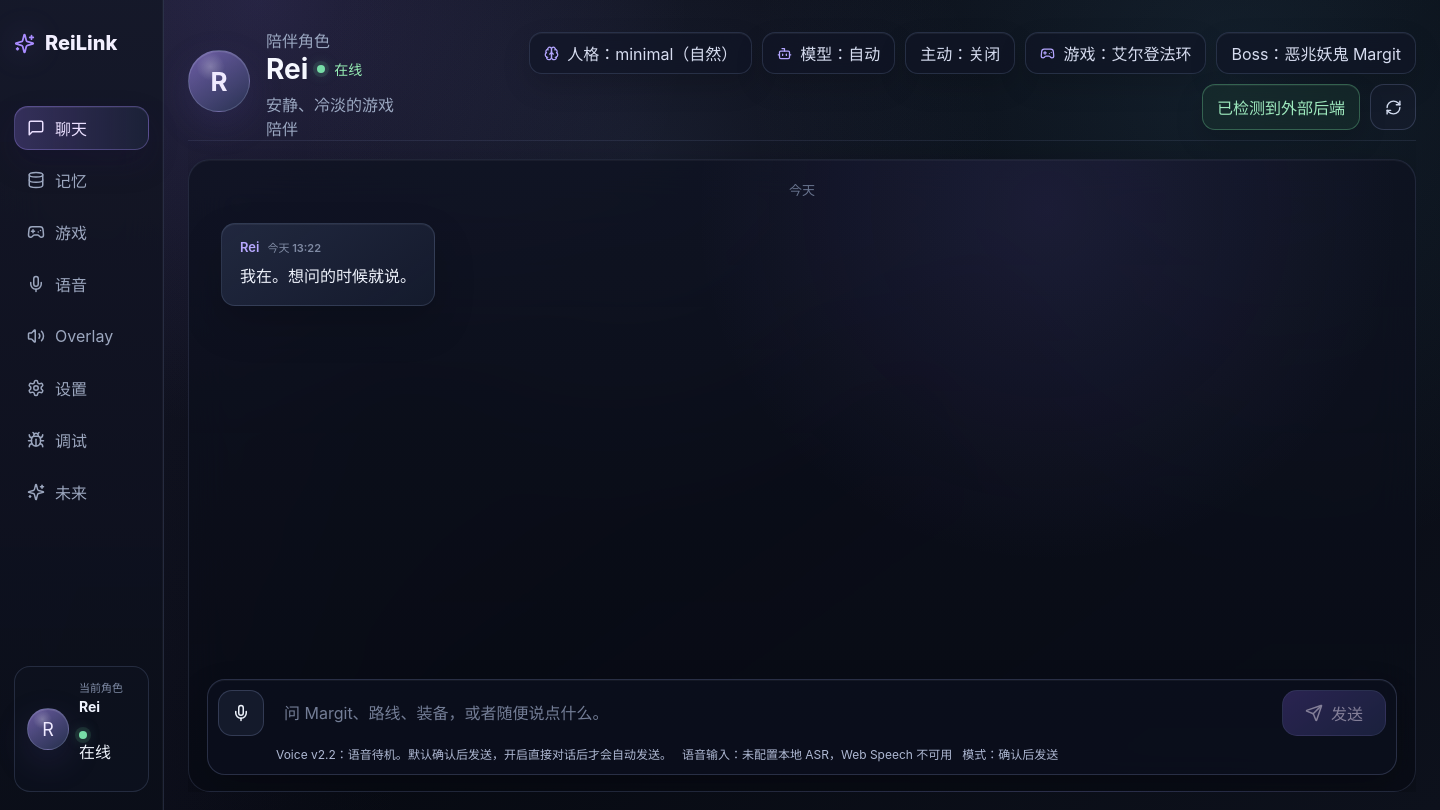
Test case: App › opens the local data directory through the runtime bridge
(page scrolled)
Click the button "设置". click: [82, 388]
box: left=14, top=366, right=149, bottom=410
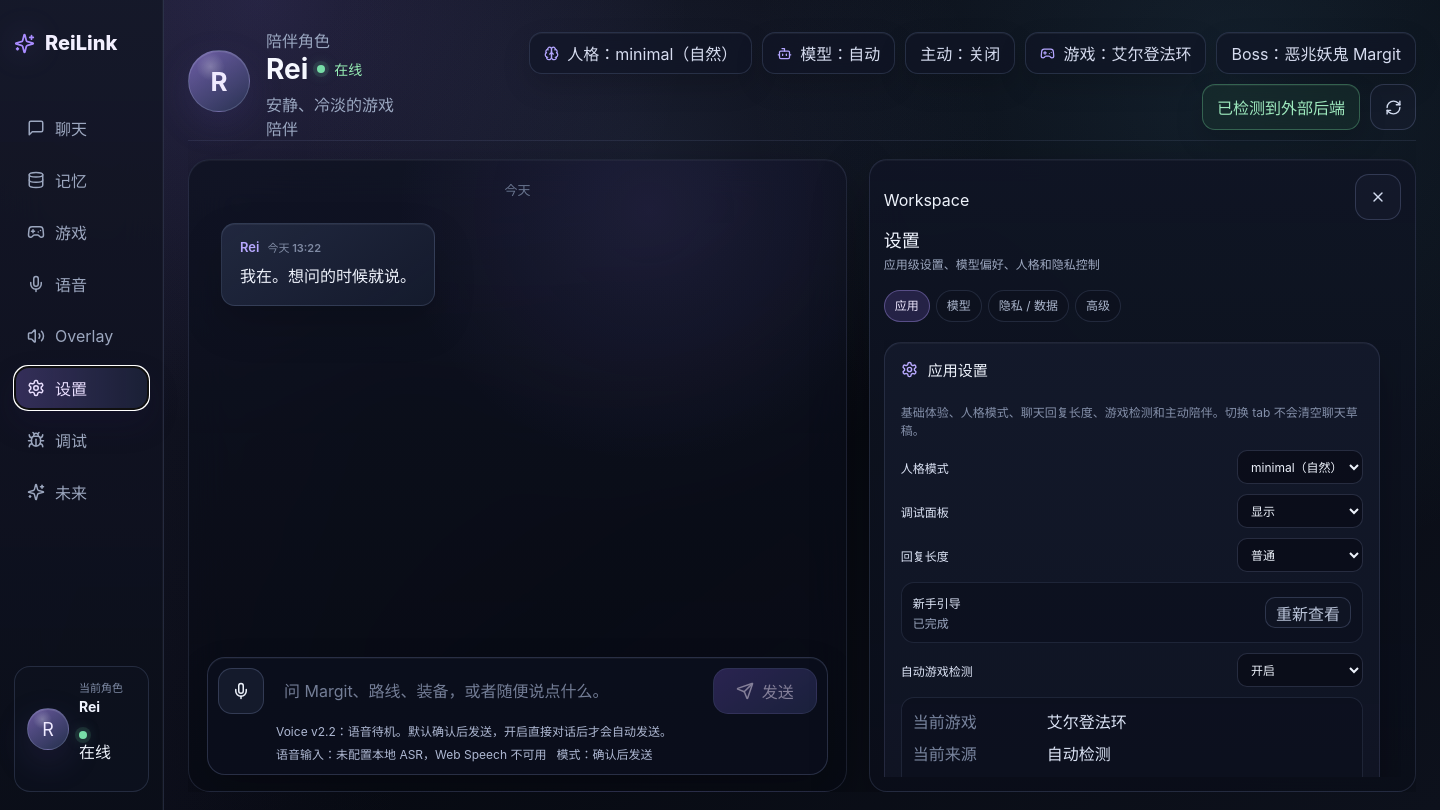
Click the tab "隐私 / 数据". click: [1028, 306]
box: left=988, top=290, right=1069, bottom=322
(page scrolled)
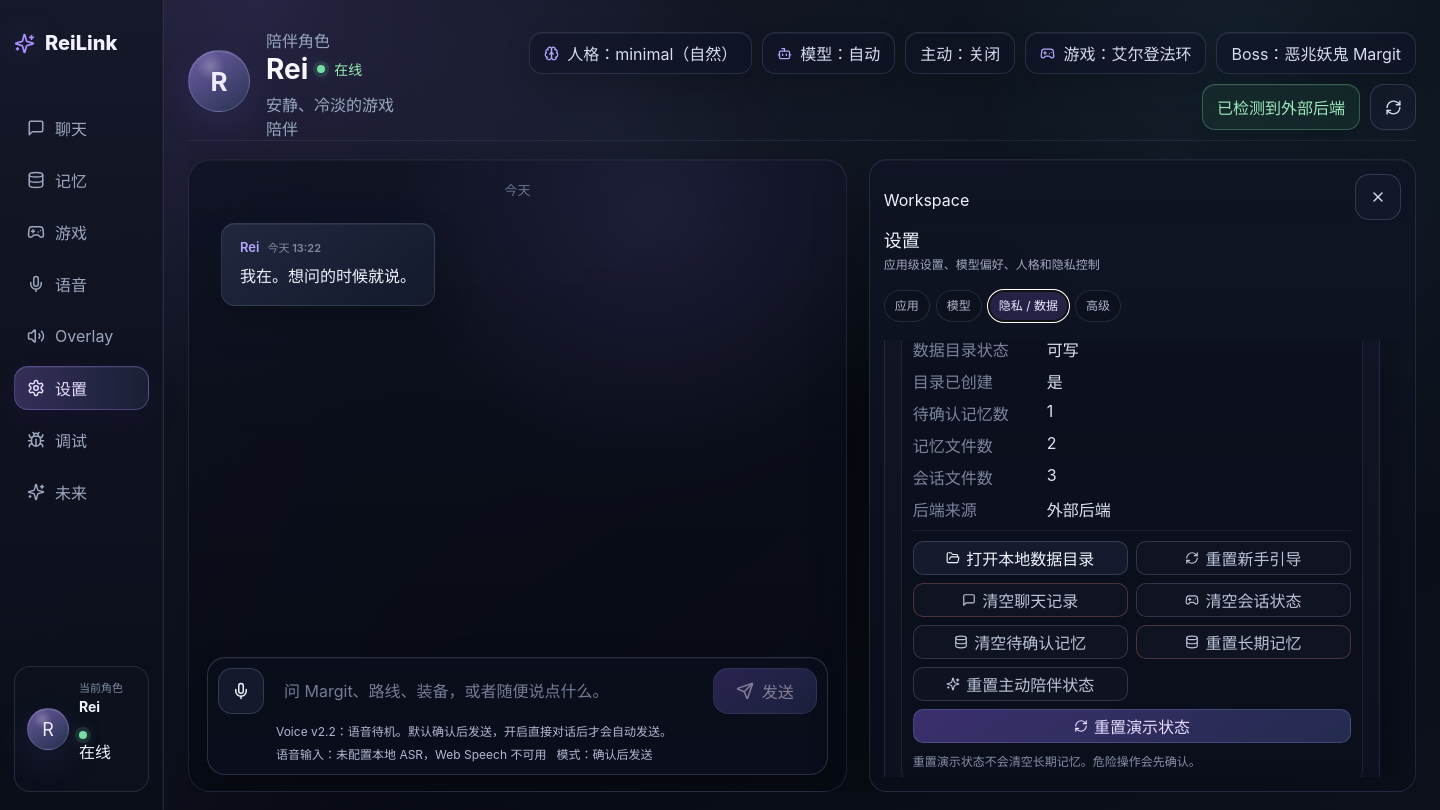
Check: the button "打开本地数据目录" is enabled
Click the button "打开本地数据目录". click: [1020, 558]
box: left=913, top=541, right=1128, bottom=575
(page scrolled)
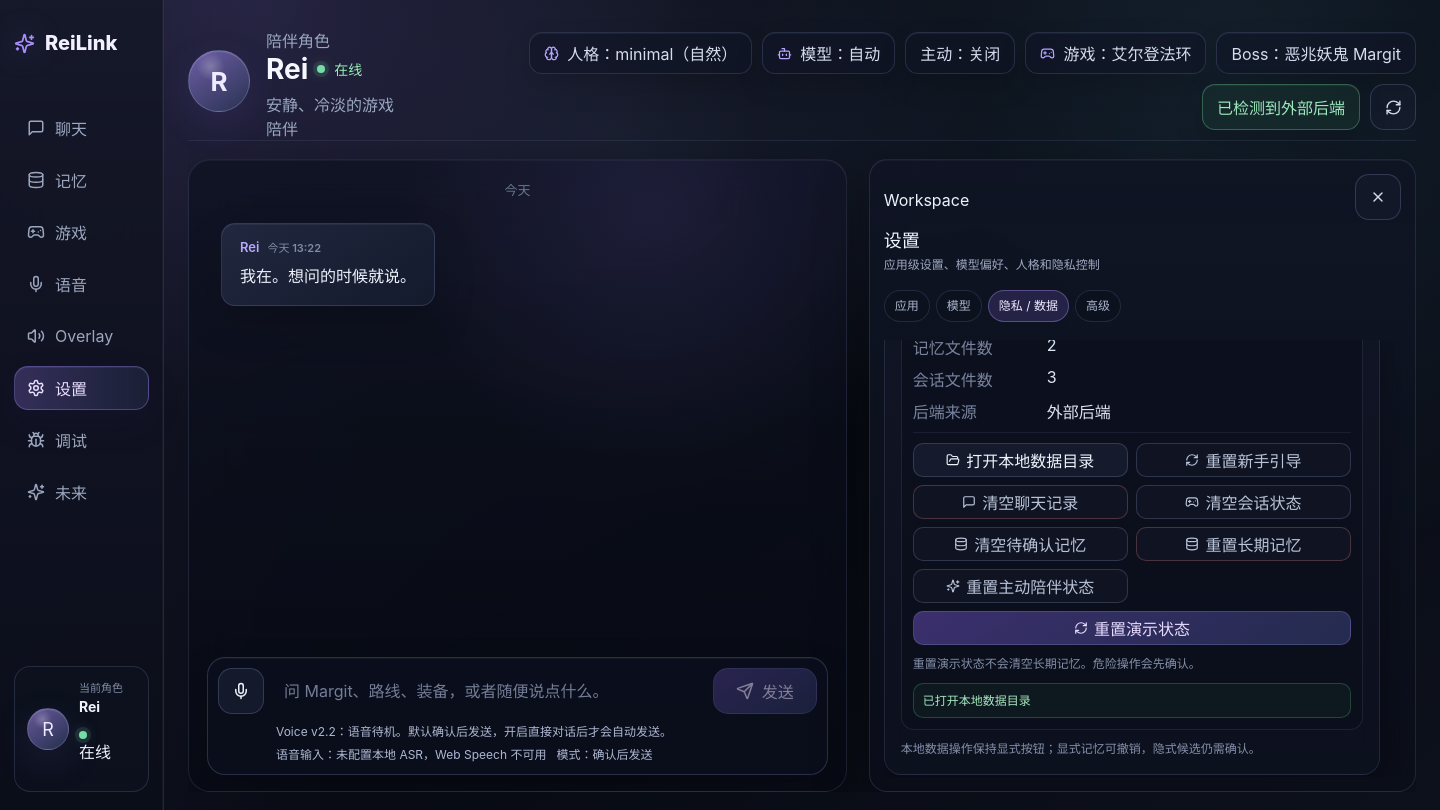
Check: the text "已打开本地数据目录" is shown, box left=913, top=683, right=1351, bottom=718
